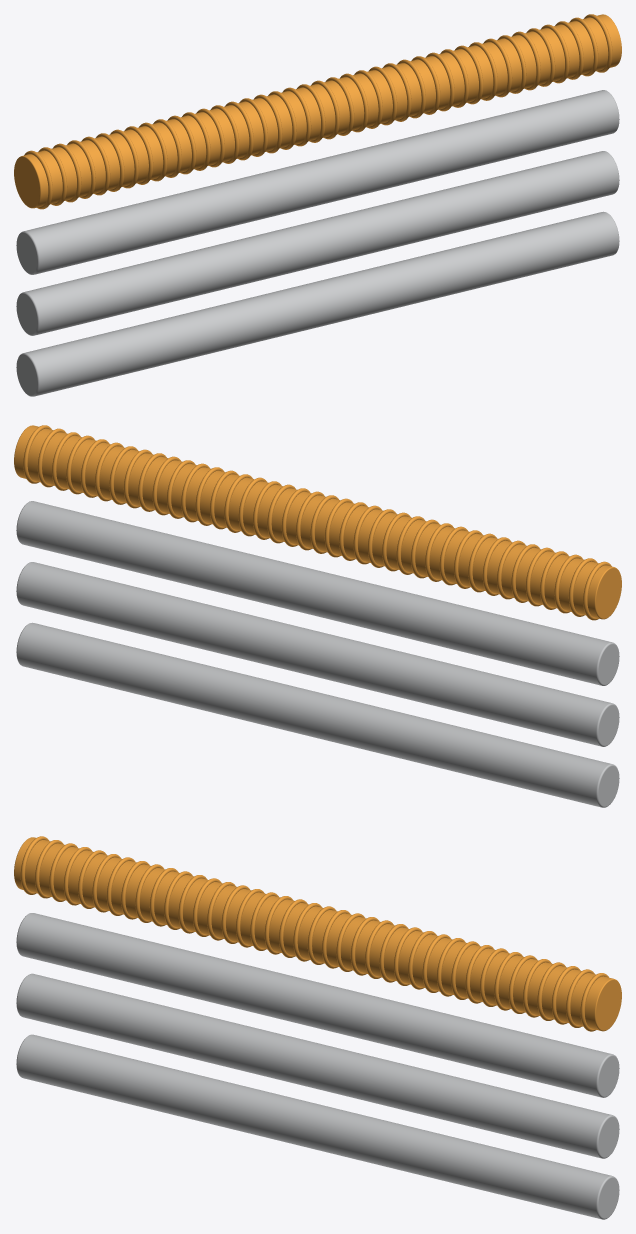
File: conduit.glb
The picture shows the model from 3 angles, top to bottom: view 1: azimuth 30°, elevation 25°; view 2: azimuth 150°, elevation 25°; view 3: azimuth 330°, elevation 25°; orthographic projection.
Visible parts, largest first — view 1: pipe, flex; view 2: pipe, flex; view 3: pipe, flex.
Boxes of the visible parts, x1,y1,x2,y2 form: pipe: (16, 90, 619, 396); flex: (14, 14, 621, 209); pipe: (16, 501, 619, 807); flex: (14, 425, 621, 620); pipe: (16, 913, 619, 1219); flex: (14, 836, 621, 1031).
Size of the model in its own units: 0.3 by 0.1184 by 0.0268.
